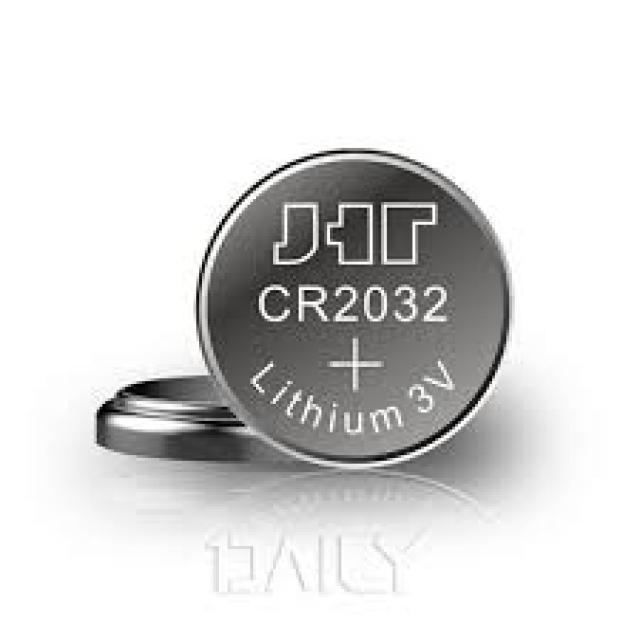COIN: (178, 136, 526, 477)
